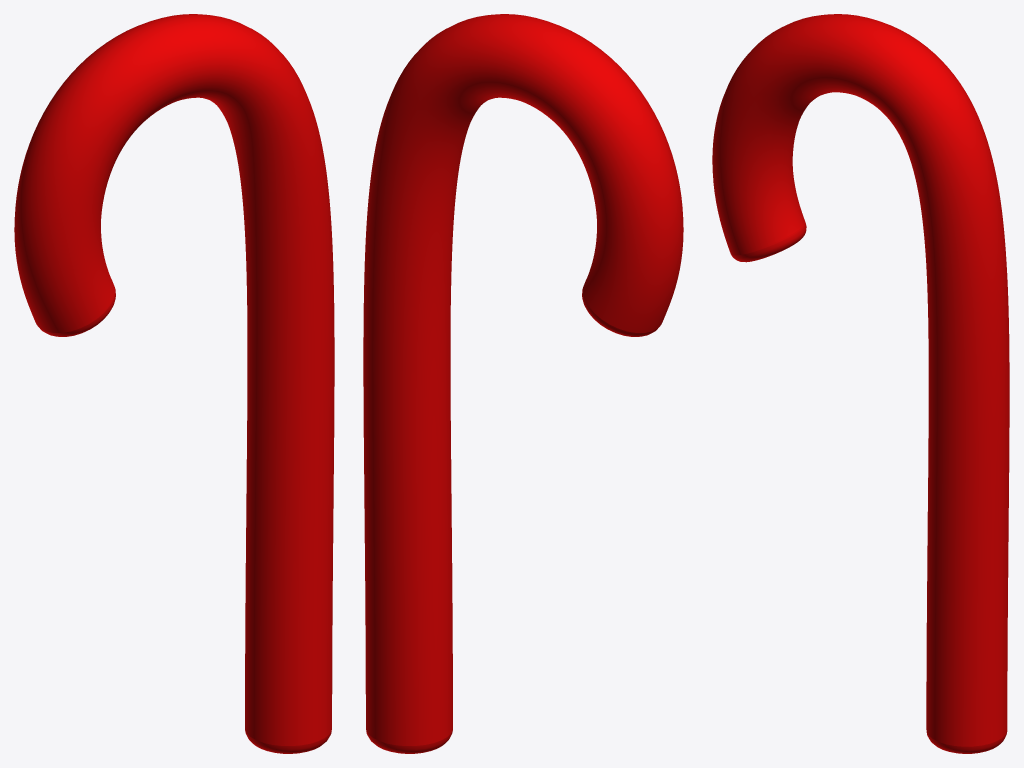
Rendered from bettercandycane.fbx.
3 renders of one model, left to right at view 1: azimuth 30°, elevation 25°; view 2: azimuth 150°, elevation 25°; view 3: azimuth 330°, elevation 25°, orthographic. The views are drawn at different scales.
Visible parts, largest first — view 1: extrudedSurface1; view 2: extrudedSurface1; view 3: extrudedSurface1.
Boxes of the visible parts, <box> form: extrudedSurface1: <box>14,14,334,753</box>; extrudedSurface1: <box>363,14,683,753</box>; extrudedSurface1: <box>712,14,1009,753</box>.
Size of the model in its own units: 3.27 by 7.57 by 0.8028.
